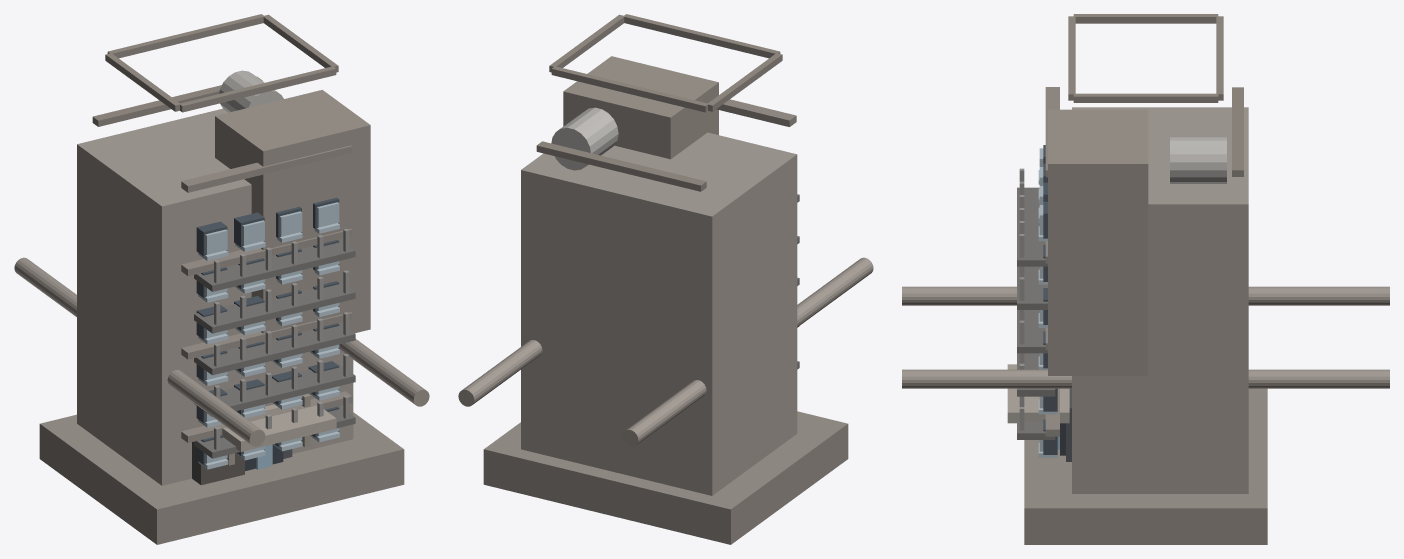
File: apartment_building.glb
The picture shows the model from 3 angles, left to right: view 1: azimuth 30°, elevation 25°; view 2: azimuth 150°, elevation 25°; view 3: azimuth 270°, elevation 25°; orthographic projection. The views are drawn at different scales.
Parts seen in each view (by area): view 1: world; view 2: world; view 3: world.
Boxes of the visible parts, left/top/right/bottom form: world: left=14, top=14, right=429, bottom=544; world: left=458, top=14, right=873, bottom=544; world: left=902, top=14, right=1389, bottom=544.
Bounding box in the file's own units: 1.24 × 2.03 × 2.04.
